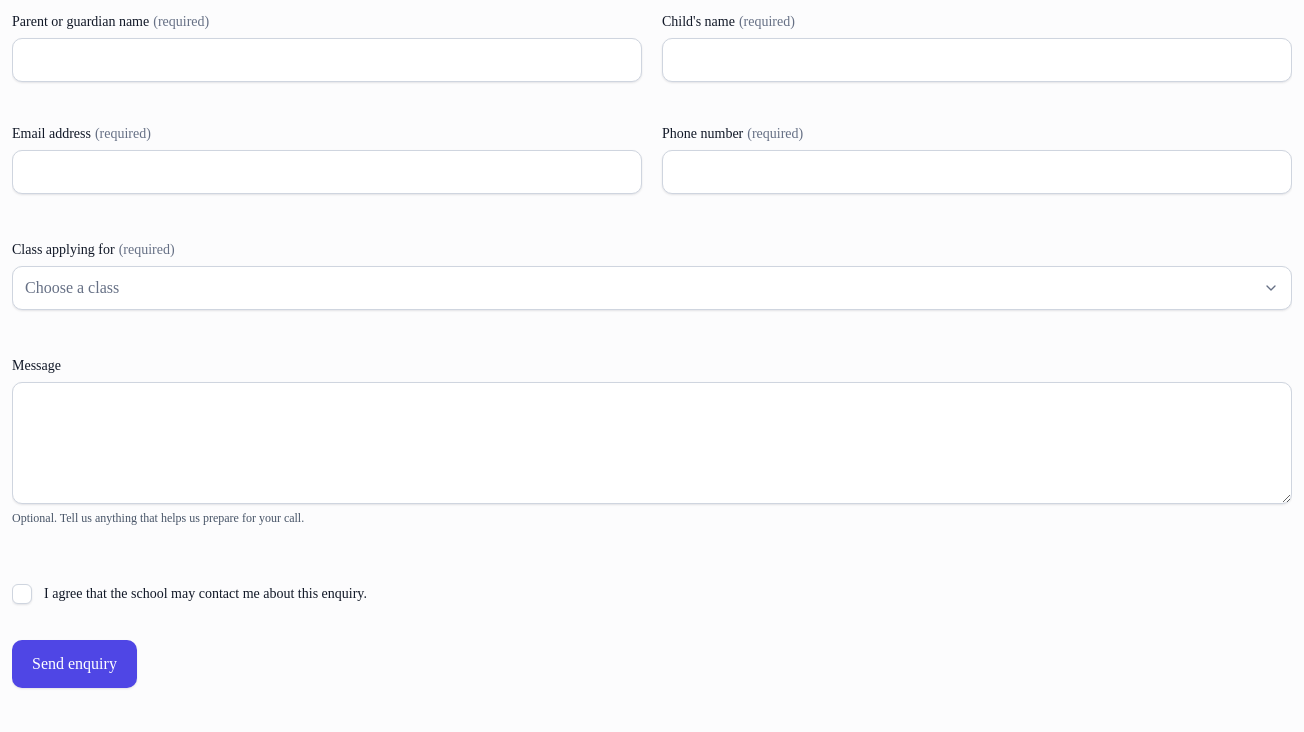
Scenario: EnquiryForm › shows accessible validation errors and does not submit an empty form
This screenshot has width=1304, height=732.
Click the button "Send enquiry": point(74, 664) x1=12 y1=640 x2=137 y2=688
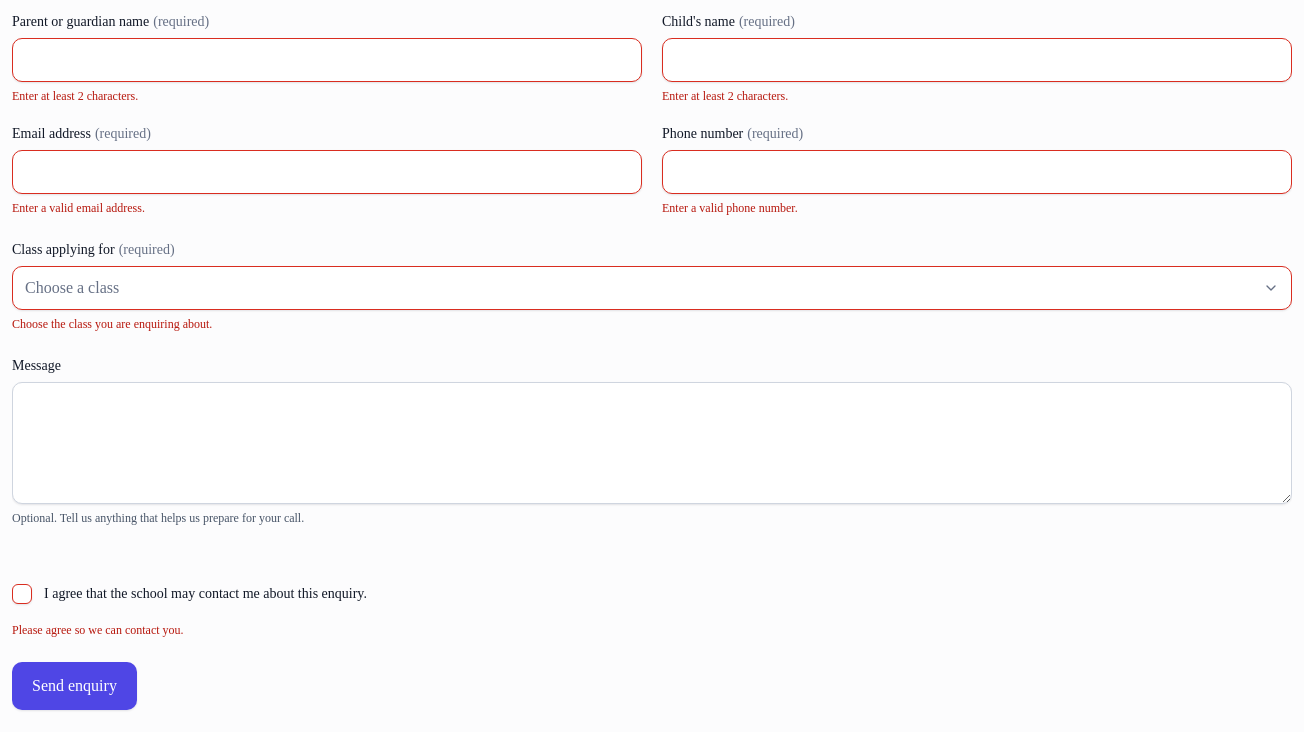
Now the text "Enter at least 2 characters." is shown 2 times, box x1=12 y1=89 x2=138 y2=103; x1=662 y1=89 x2=788 y2=103
Now the text "Enter a valid email address." is shown, box x1=12 y1=201 x2=145 y2=215
Now the text "Enter a valid phone number." is shown, box x1=662 y1=201 x2=798 y2=215
